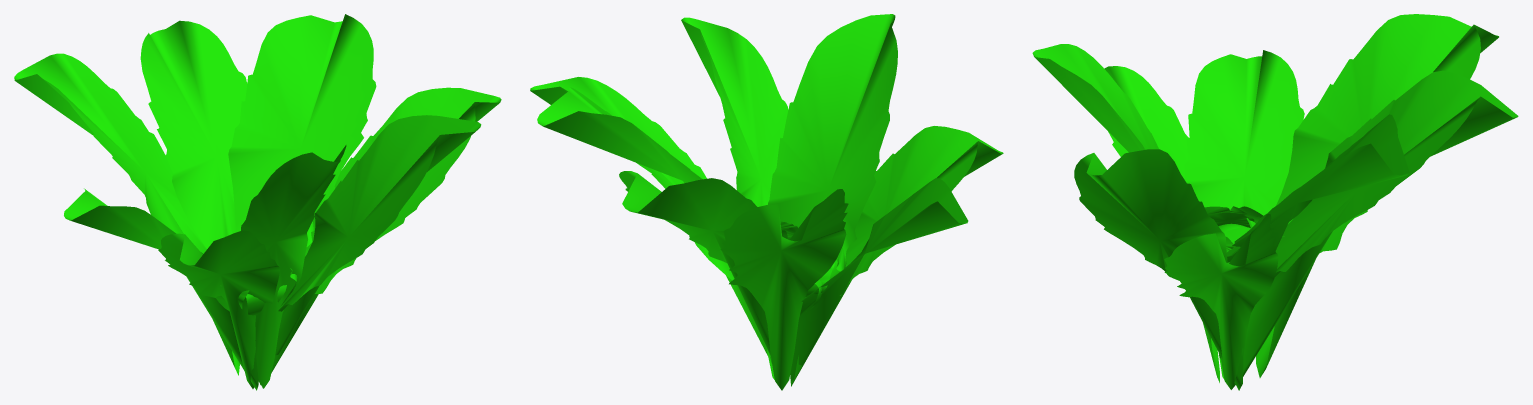
Rendered from Laitue_Croissance_2.fbx.
The picture shows the model from 3 angles, left to right: view 1: azimuth 30°, elevation 25°; view 2: azimuth 150°, elevation 25°; view 3: azimuth 270°, elevation 25°; orthographic projection. The views are drawn at different scales.
Visible parts, largest first — view 1: Feuille.004, Feuille, Feuille.005, Feuille.006, Feuille.001, Feuille.007, Feuille.003, Feuille.002; view 2: Feuille.001, Feuille.006, Feuille.005, Feuille.007, Feuille, Feuille.002, Feuille.004, Feuille.003; view 3: Feuille.002, Feuille, Feuille.006, Feuille.005, Feuille.003, Feuille.004, Feuille.001, Feuille.007, Plane.002.
Part boxes in pixels (left/top/right/bottom): Feuille.004: left=228, top=14, right=376, bottom=246; Feuille: left=140, top=20, right=247, bottom=248; Feuille.005: left=260, top=115, right=481, bottom=384; Feuille.006: left=14, top=53, right=239, bottom=375; Feuille.001: left=241, top=145, right=346, bottom=388; Feuille.007: left=158, top=230, right=280, bottom=388; Feuille.003: left=262, top=87, right=501, bottom=387; Feuille.002: left=64, top=188, right=258, bottom=390; Feuille.001: left=768, top=14, right=897, bottom=271; Feuille.006: left=720, top=189, right=848, bottom=390; Feuille.005: left=681, top=17, right=788, bottom=379; Feuille.007: left=790, top=126, right=1003, bottom=386; Feuille: left=619, top=171, right=787, bottom=357; Feuille.002: left=790, top=178, right=968, bottom=381; Feuille.004: left=537, top=87, right=702, bottom=183; Feuille.003: left=530, top=77, right=771, bottom=363; Feuille.002: left=1184, top=50, right=1304, bottom=379; Feuille: left=1243, top=70, right=1518, bottom=376; Feuille.006: left=1256, top=14, right=1498, bottom=377; Feuille.005: left=1074, top=149, right=1243, bottom=390; Feuille.003: left=1164, top=214, right=1278, bottom=389; Feuille.004: left=1219, top=114, right=1409, bottom=358; Feuille.001: left=1032, top=44, right=1219, bottom=382; Feuille.007: left=1104, top=66, right=1189, bottom=179; Plane.002: left=1211, top=213, right=1254, bottom=228.
Bounding box in the file's own units: 63.82 × 42.5 × 56.39.
